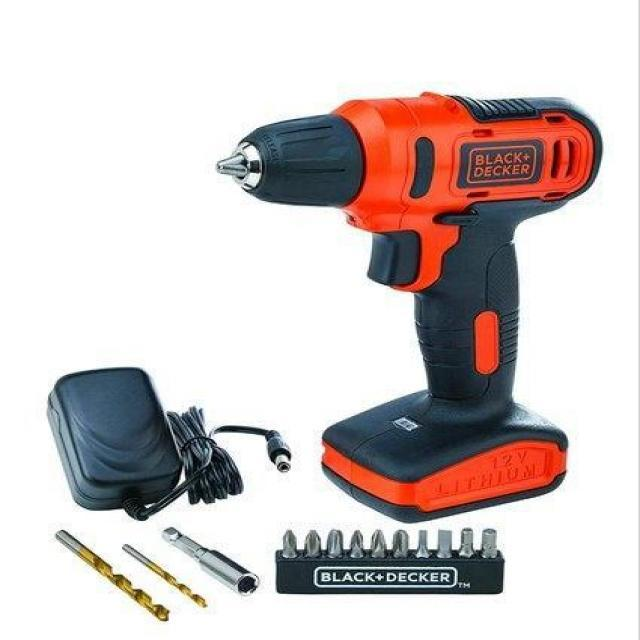drill: (216, 90, 603, 524)
